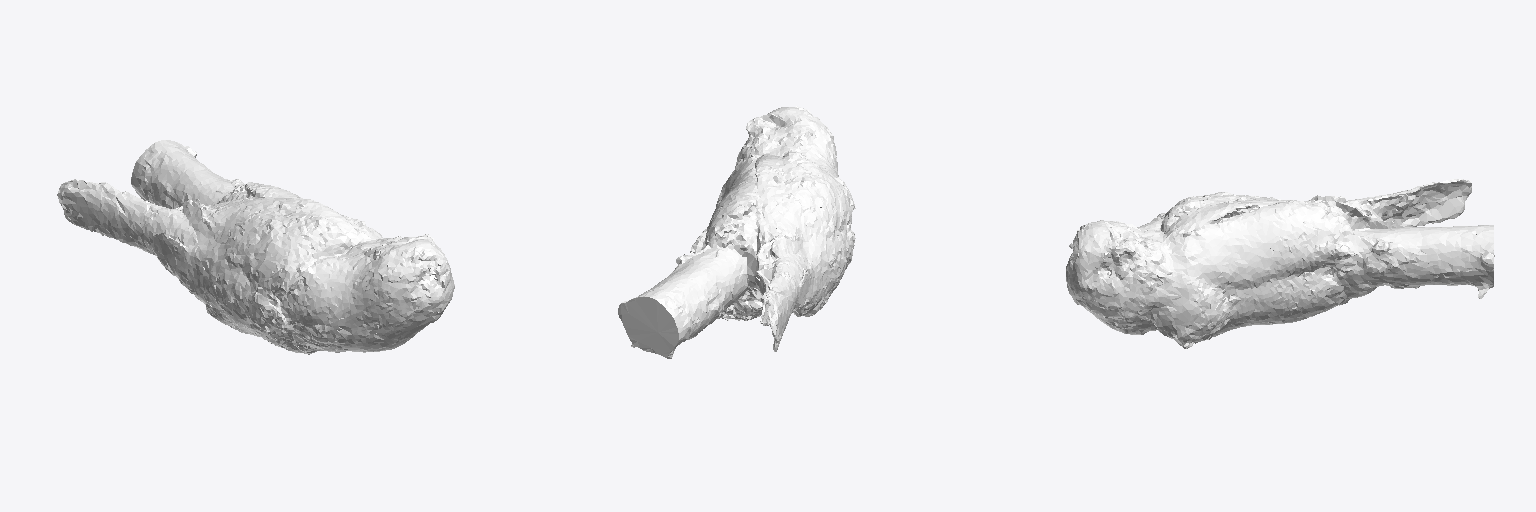
The model's file is Owl10kPoly2kTex.obj.
3 renders of one model, left to right at view 1: azimuth 30°, elevation 25°; view 2: azimuth 150°, elevation 25°; view 3: azimuth 270°, elevation 25°, orthographic.
Visible parts, largest first — view 1: default; view 2: default; view 3: default.
Boxes of the visible parts, <box> form: default: <box>57,140,454,354</box>; default: <box>618,106,855,358</box>; default: <box>1066,179,1494,348</box>.
Bounding box in the file's own units: 14.61 × 8.87 × 26.26.